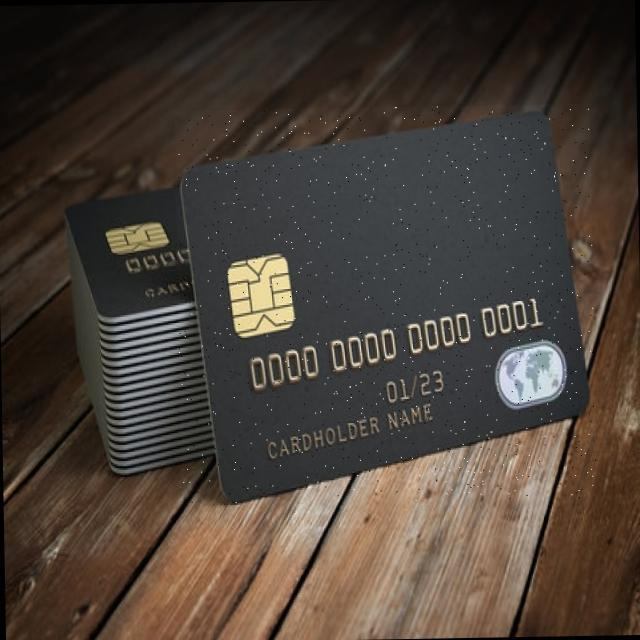payment_card: (178, 109, 590, 504)
